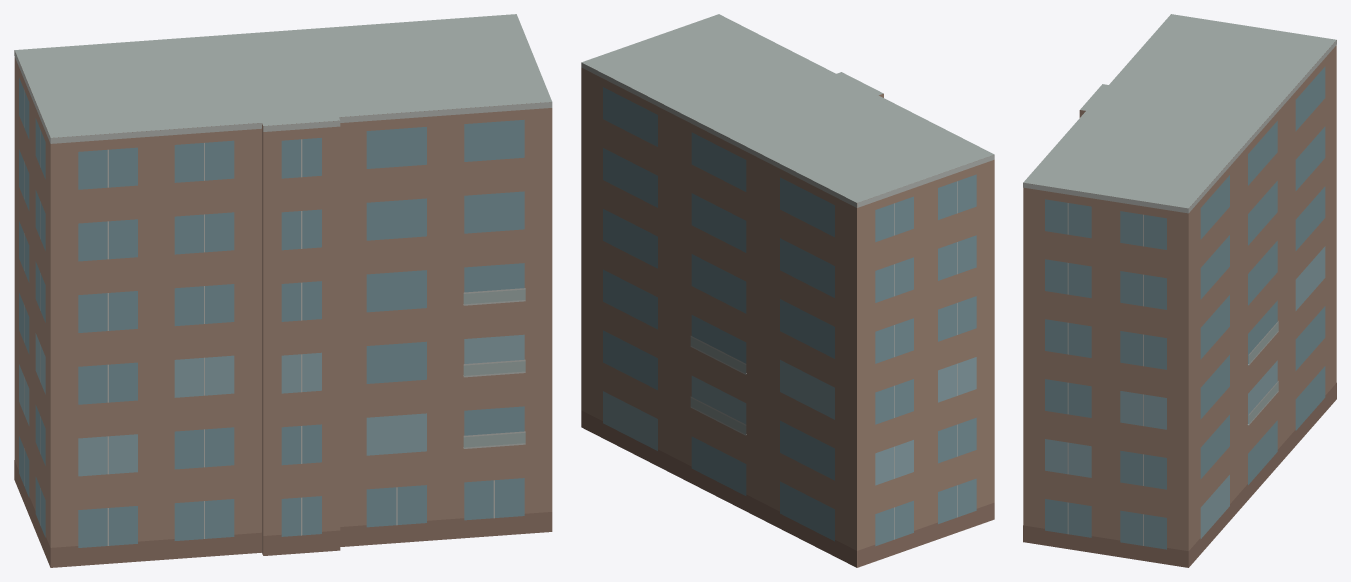
File: survey-upis-32972230.glb
3 renders of one model, left to right at view 1: azimuth 30°, elevation 25°; view 2: azimuth 150°, elevation 25°; view 3: azimuth 270°, elevation 25°, orthographic. The views are drawn at different scales.
Visible parts, largest first — view 1: survey-upis-32972230.tmp; view 2: survey-upis-32972230.tmp; view 3: survey-upis-32972230.tmp.
Part boxes in pixels (bbox=[...]): survey-upis-32972230.tmp: bbox=[14, 14, 552, 567]; survey-upis-32972230.tmp: bbox=[581, 14, 994, 567]; survey-upis-32972230.tmp: bbox=[1023, 14, 1336, 567].
Size of the model in its own units: 20.43 by 17.6 by 13.93.
